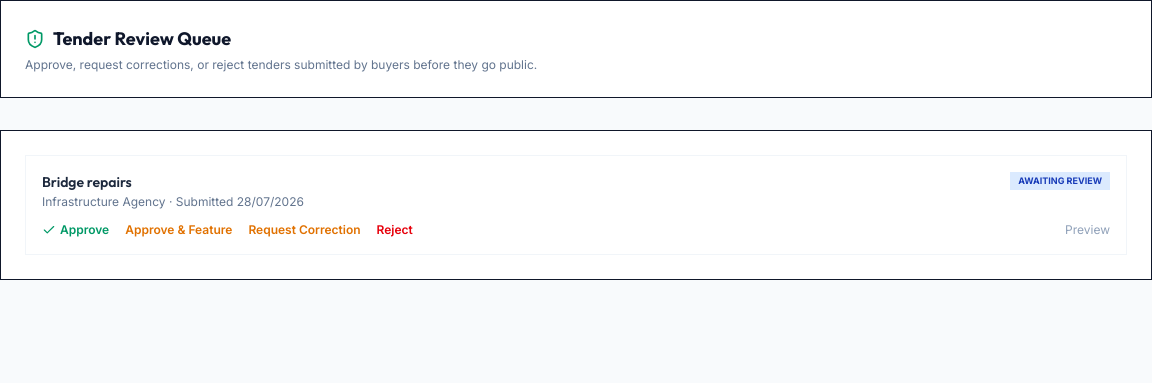
Test: AdminTenderReviewWorkspace › restores a tender and shows the error when approval fails
Click the button "Approve" at (76, 230), box [42,222,109,238]
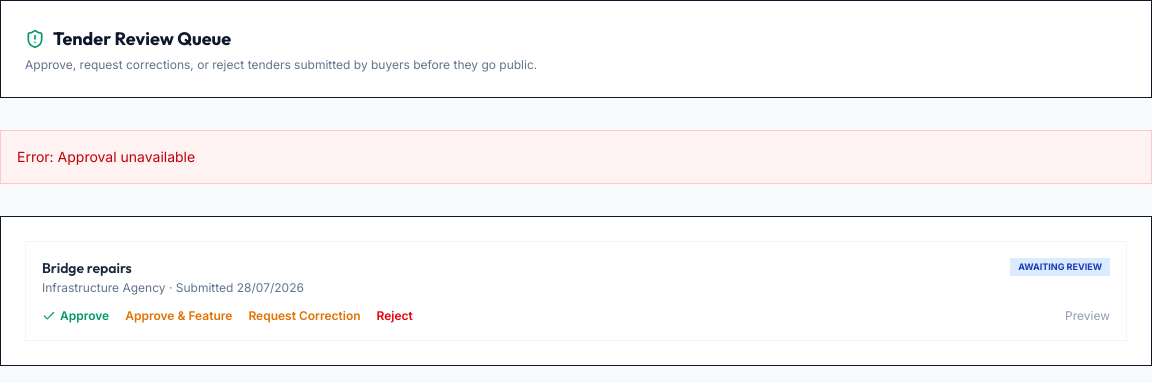
Check: the heading "Bridge repairs" is shown, box [42,259,132,277]
Check: the message shows "Approval unavailable", box [17,148,195,165]
